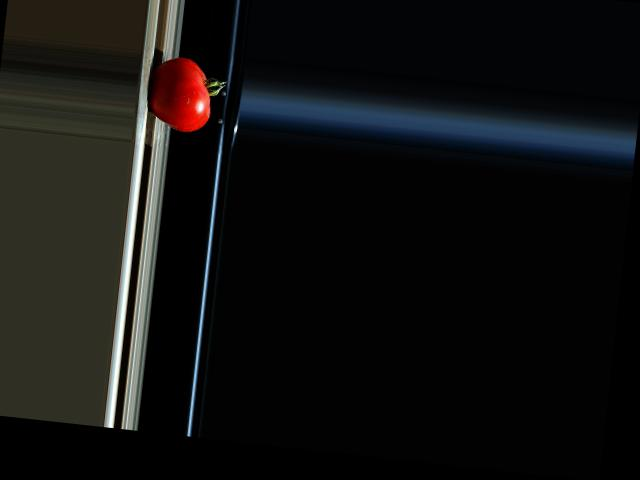tomato: (146, 54, 228, 135)
